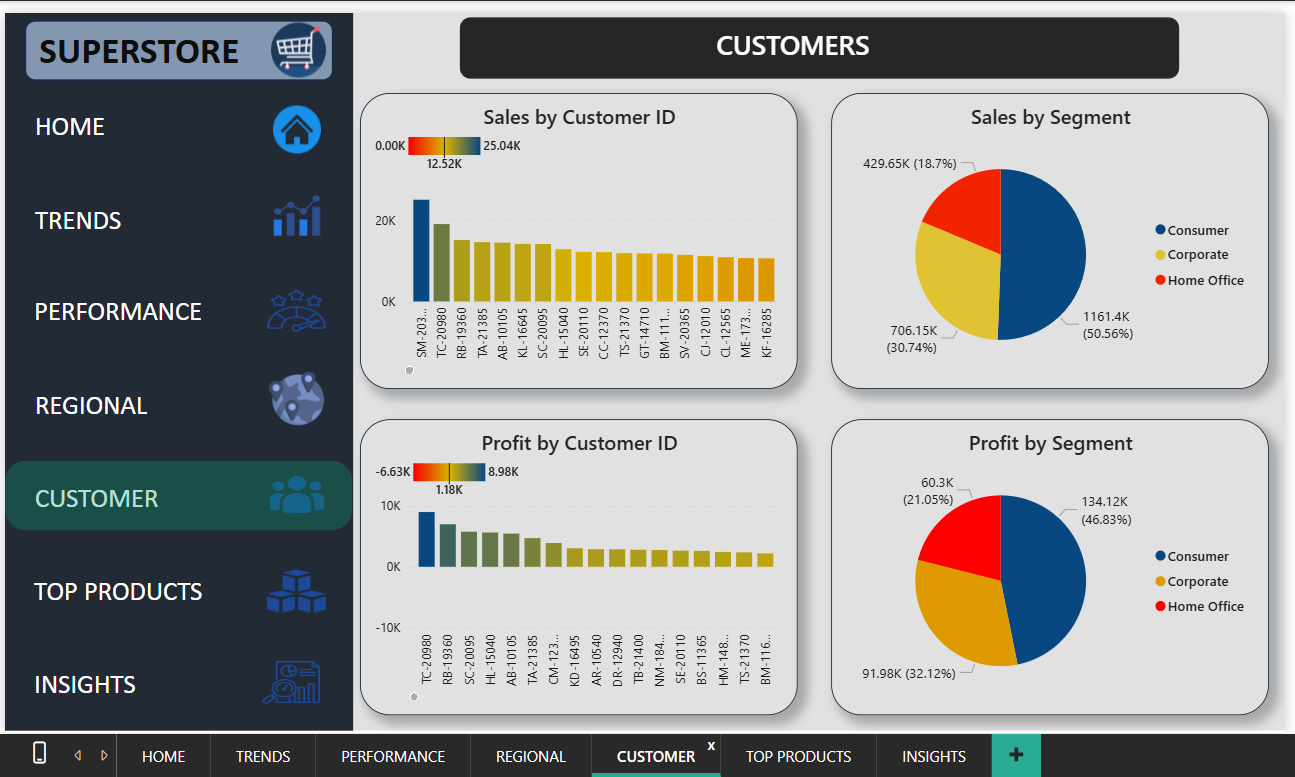

This screenshot's page, from the dashboard's own definition file:
{"tool":"powerbi","page":{"name":"CUSTOMER","canvas":[1280,720],"ordinal":4},"visuals":[{"type":"pieChart","title":"Sales by Segment","fields":{"Category":["Sample - Superstore.Segment"],"Y":["Sum(Sample - Superstore.Sales)"]},"box":[826.2,80,437.5,296.2],"z":0},{"type":"pieChart","title":"Profit by Segment","fields":{"Category":["Sample - Superstore.Segment"],"Y":["Sum(Sample - Superstore.Profit)"]},"box":[826.2,406.2,437.5,296.2],"z":1},{"type":"columnChart","title":"Sales by Customer ID","fields":{"Category":["Sample - Superstore.Customer ID"],"Y":["Sum(Sample - Superstore.Sales)"]},"box":[355,80,437.5,296.2],"z":2},{"type":"columnChart","title":"Profit by Customer ID","fields":{"Category":["Sample - Superstore.Customer ID"],"Y":["Sum(Sample - Superstore.Profit)"]},"box":[355,406.2,437.5,296.2],"z":3},{"type":"textbox","box":[706.2,8.8,173.8,53.8],"z":4},{"type":"shape","box":[0,447.5,347.5,70],"z":5},{"type":"actionButton","box":[0,80,347.5,70],"z":6},{"type":"actionButton","box":[0,171.2,347.5,70],"z":7},{"type":"actionButton","box":[0,258.8,347.5,70],"z":8},{"type":"actionButton","box":[0,350,347.5,70],"z":9},{"type":"actionButton","box":[0,543.8,347.5,70],"z":10},{"type":"actionButton","box":[0,632.5,347.5,70],"z":11}]}

Visuals, with their boxes on the page's 1280x720 design canvas (x1, y1, x2, y2). These are canvas units, not pixel positions in the 1295x777 screenshot, which may show the page scaled, cropped or inside an application window:
"Sales by Segment" pieChart: (x1=826, y1=80, x2=1264, y2=376)
"Profit by Segment" pieChart: (x1=826, y1=406, x2=1264, y2=702)
"Sales by Customer ID" columnChart: (x1=355, y1=80, x2=792, y2=376)
"Profit by Customer ID" columnChart: (x1=355, y1=406, x2=792, y2=702)
textbox: (x1=706, y1=9, x2=880, y2=63)
shape: (x1=0, y1=448, x2=348, y2=518)
actionButton: (x1=0, y1=80, x2=348, y2=150)
actionButton: (x1=0, y1=171, x2=348, y2=241)
actionButton: (x1=0, y1=259, x2=348, y2=329)
actionButton: (x1=0, y1=350, x2=348, y2=420)
actionButton: (x1=0, y1=544, x2=348, y2=614)
actionButton: (x1=0, y1=632, x2=348, y2=702)
